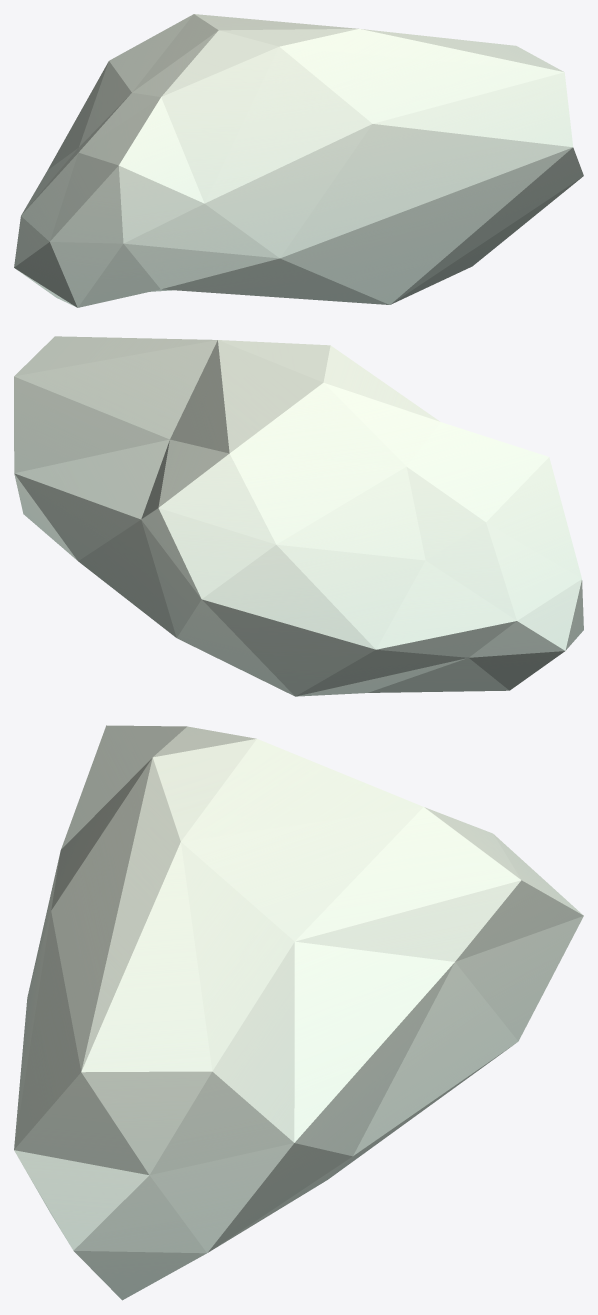
The model's file is Cloud01.fbx.
The picture shows the model from 3 angles, top to bottom: view 1: azimuth 30°, elevation 25°; view 2: azimuth 150°, elevation 25°; view 3: azimuth 270°, elevation 25°; orthographic projection. The views are drawn at different scales.
Visible parts, largest first — view 1: Cloud01; view 2: Cloud01; view 3: Cloud01.
Boxes of the visible parts, x1,y1,x2,y2 form: Cloud01: (14,14,583,307); Cloud01: (14,336,583,696); Cloud01: (14,725,583,1300).
Bounding box in the file's own units: 251 × 120 × 154.
